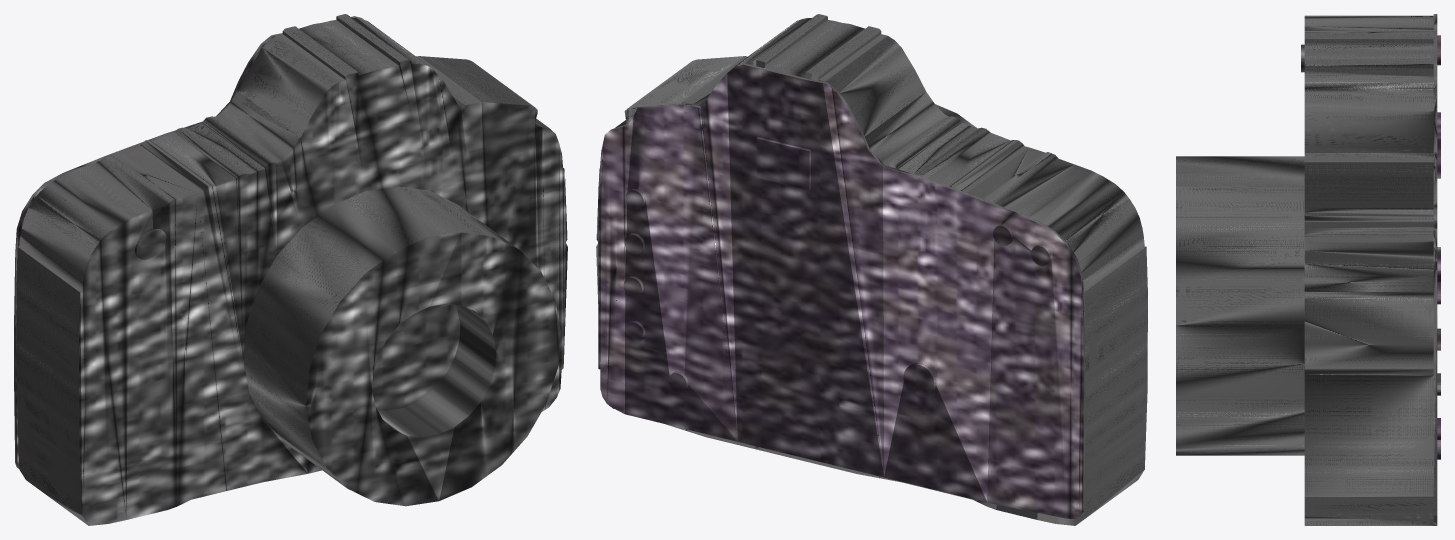
The model's file is model_align.obj.
3 views of the same model, side by side, from view 1: azimuth 30°, elevation 25°; view 2: azimuth 150°, elevation 25°; view 3: azimuth 270°, elevation 25° (orthographic). The views are drawn at different scales.
Bounding box in the file's own units: 0.1592 × 0.1217 × 0.0728.
